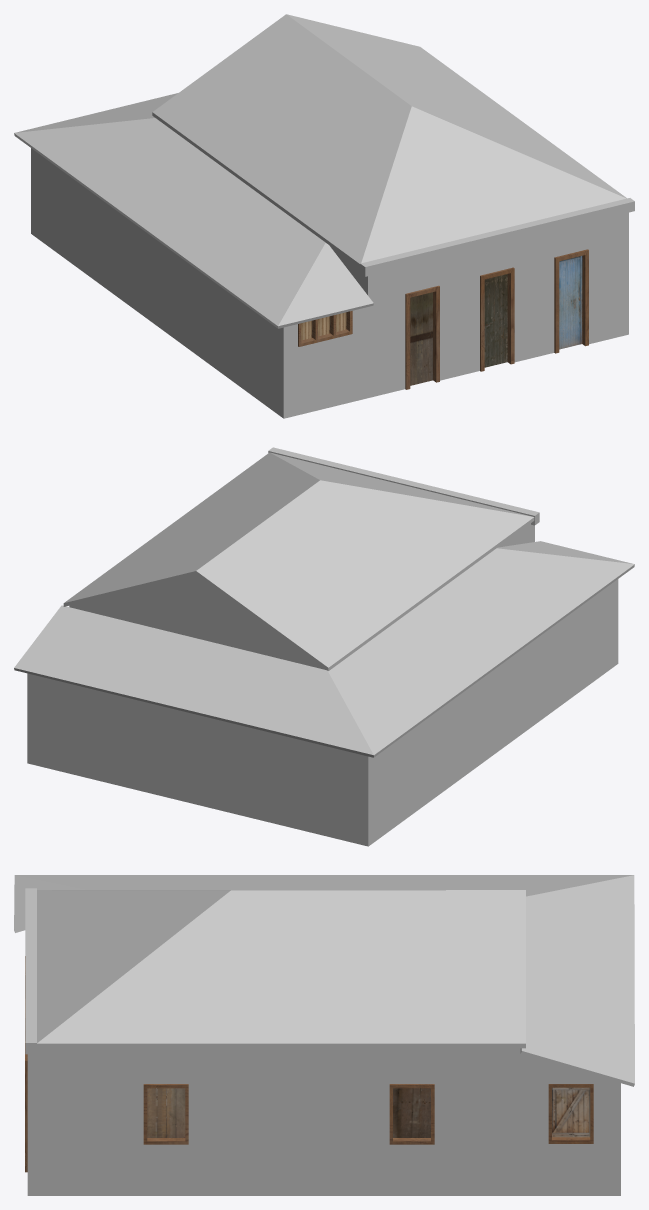
The model's file is 15_casa.fbx.
The picture shows the model from 3 angles, top to bottom: view 1: azimuth 30°, elevation 25°; view 2: azimuth 150°, elevation 25°; view 3: azimuth 270°, elevation 25°; orthographic projection. The views are drawn at different scales.
Parts seen in each view (by area): view 1: telhado, 15_casa_LOD0; view 2: telhado, 15_casa_LOD0; view 3: telhado, 15_casa_LOD0.
Boxes of the visible parts, x1,y1,x2,y2 form: telhado: [14, 14, 626, 328]; 15_casa_LOD0: [31, 148, 634, 418]; telhado: [14, 452, 634, 757]; 15_casa_LOD0: [27, 447, 618, 846]; telhado: [14, 875, 634, 1086]; 15_casa_LOD0: [25, 888, 620, 1195].
Size of what is drawn, in the model's own units: 837 by 433 by 1054.
